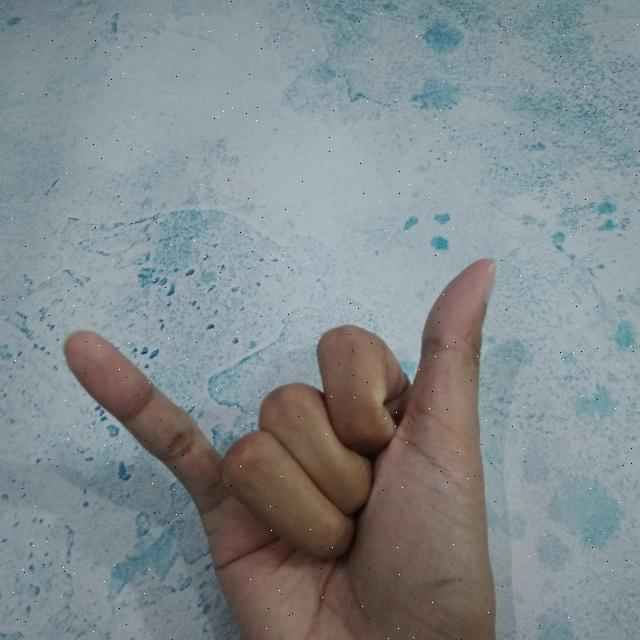Y: (58, 250, 501, 640)
